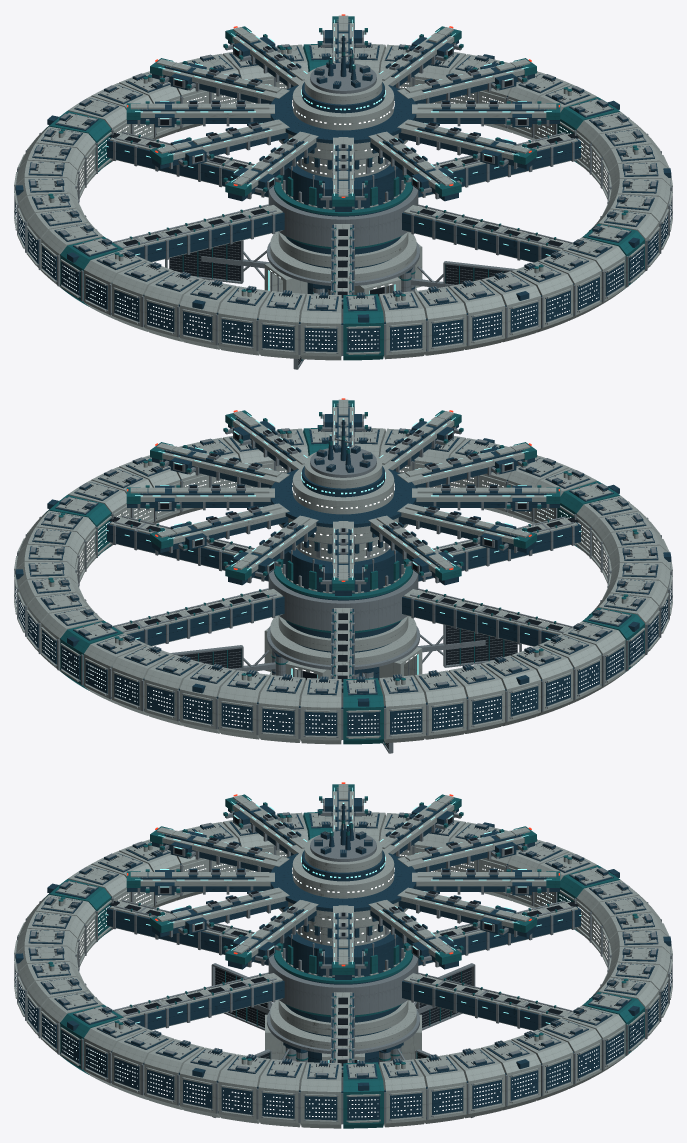
File: cinder_polar_research.glb
3 renders of one model, top to bottom at view 1: azimuth 30°, elevation 25°; view 2: azimuth 150°, elevation 25°; view 3: azimuth 270°, elevation 25°, orthographic.
Visible parts, largest first — view 1: Habitat_Ceramic_Ivory, Habitat_Frame_Gunmetal, Hub_Ceramic_Ivory, Hub_Frame_Gunmetal, Detail_rotor_Titanium_Edges, Habitat_Titanium_Edges, Hub_Titanium_Edges, Hub_Industrial_Orange, Detail_rotor_Ceramic_Ivory, Habitat_Industrial_Orange, Detail_rotor_Frame_Gunmetal, Habitat_Recess_Black (+8 smaller); view 2: Habitat_Ceramic_Ivory, Habitat_Frame_Gunmetal, Hub_Ceramic_Ivory, Hub_Frame_Gunmetal, Detail_rotor_Titanium_Edges, Habitat_Titanium_Edges, Hub_Titanium_Edges, Hub_Industrial_Orange, Detail_rotor_Ceramic_Ivory, Habitat_Industrial_Orange, Detail_rotor_Frame_Gunmetal, Habitat_Recess_Black (+8 smaller); view 3: Habitat_Ceramic_Ivory, Habitat_Frame_Gunmetal, Hub_Ceramic_Ivory, Hub_Frame_Gunmetal, Detail_rotor_Titanium_Edges, Habitat_Titanium_Edges, Hub_Titanium_Edges, Hub_Industrial_Orange, Detail_rotor_Ceramic_Ivory, Habitat_Industrial_Orange, Detail_rotor_Frame_Gunmetal, Habitat_Recess_Black (+7 smaller).
Boxes of the visible parts, x1,y1,x2,y2 form: Habitat_Ceramic_Ivory: [16, 44, 670, 360]; Habitat_Frame_Gunmetal: [15, 41, 671, 351]; Hub_Ceramic_Ivory: [130, 15, 556, 296]; Hub_Frame_Gunmetal: [127, 22, 559, 294]; Detail_rotor_Titanium_Edges: [14, 42, 672, 355]; Habitat_Titanium_Edges: [15, 44, 671, 353]; Hub_Titanium_Edges: [137, 29, 549, 369]; Hub_Industrial_Orange: [126, 16, 560, 360]; Detail_rotor_Ceramic_Ivory: [14, 49, 672, 354]; Habitat_Industrial_Orange: [43, 44, 644, 360]; Detail_rotor_Frame_Gunmetal: [29, 42, 657, 309]; Habitat_Recess_Black: [32, 45, 654, 308]; Habitat_Ceramic_Ivory: [16, 428, 670, 744]; Habitat_Frame_Gunmetal: [15, 425, 671, 735]; Hub_Ceramic_Ivory: [130, 399, 556, 678]; Hub_Frame_Gunmetal: [127, 406, 559, 680]; Detail_rotor_Titanium_Edges: [14, 426, 672, 739]; Habitat_Titanium_Edges: [15, 428, 671, 737]; Hub_Titanium_Edges: [137, 413, 549, 753]; Hub_Industrial_Orange: [126, 400, 560, 744]; Detail_rotor_Ceramic_Ivory: [14, 433, 672, 738]; Habitat_Industrial_Orange: [43, 428, 644, 744]; Detail_rotor_Frame_Gunmetal: [29, 426, 657, 693]; Habitat_Recess_Black: [32, 429, 654, 692]; Habitat_Ceramic_Ivory: [16, 812, 670, 1128]; Habitat_Frame_Gunmetal: [15, 809, 671, 1120]; Hub_Ceramic_Ivory: [130, 784, 556, 1060]; Hub_Frame_Gunmetal: [127, 789, 559, 1064]; Detail_rotor_Titanium_Edges: [14, 810, 672, 1124]; Habitat_Titanium_Edges: [15, 813, 671, 1121]; Hub_Titanium_Edges: [137, 797, 549, 1117]; Hub_Industrial_Orange: [126, 784, 560, 1060]; Detail_rotor_Ceramic_Ivory: [14, 817, 672, 1122]; Habitat_Industrial_Orange: [42, 812, 644, 1128]; Detail_rotor_Frame_Gunmetal: [29, 811, 657, 1077]; Habitat_Recess_Black: [32, 814, 654, 1076].
Size of the model in its own units: 2015 by 951 by 2015.
Materials: 9 (5 with a texture image).
